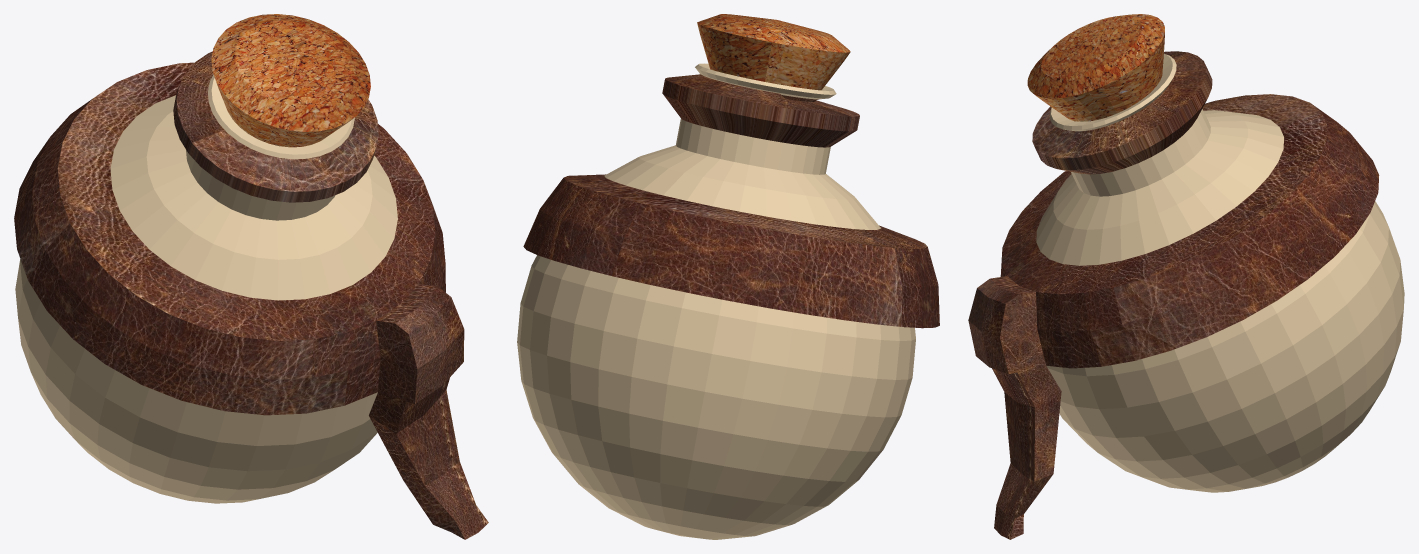
The model's file is daily_model_2025-09-26.glb.
3 views of the same model, side by side, from view 1: azimuth 30°, elevation 25°; view 2: azimuth 150°, elevation 25°; view 3: azimuth 270°, elevation 25° (orthographic). The views are drawn at different scales.
Visible parts, largest first — view 1: Sphere; view 2: Sphere; view 3: Sphere.
Boxes of the visible parts, left/top/right/bottom form: Sphere: left=14, top=14, right=488, bottom=539; Sphere: left=517, top=14, right=939, bottom=539; Sphere: left=968, top=14, right=1404, bottom=539.
Size of the model in its own units: 2.12 by 2.59 by 2.28.
4 materials, 2 textured.
